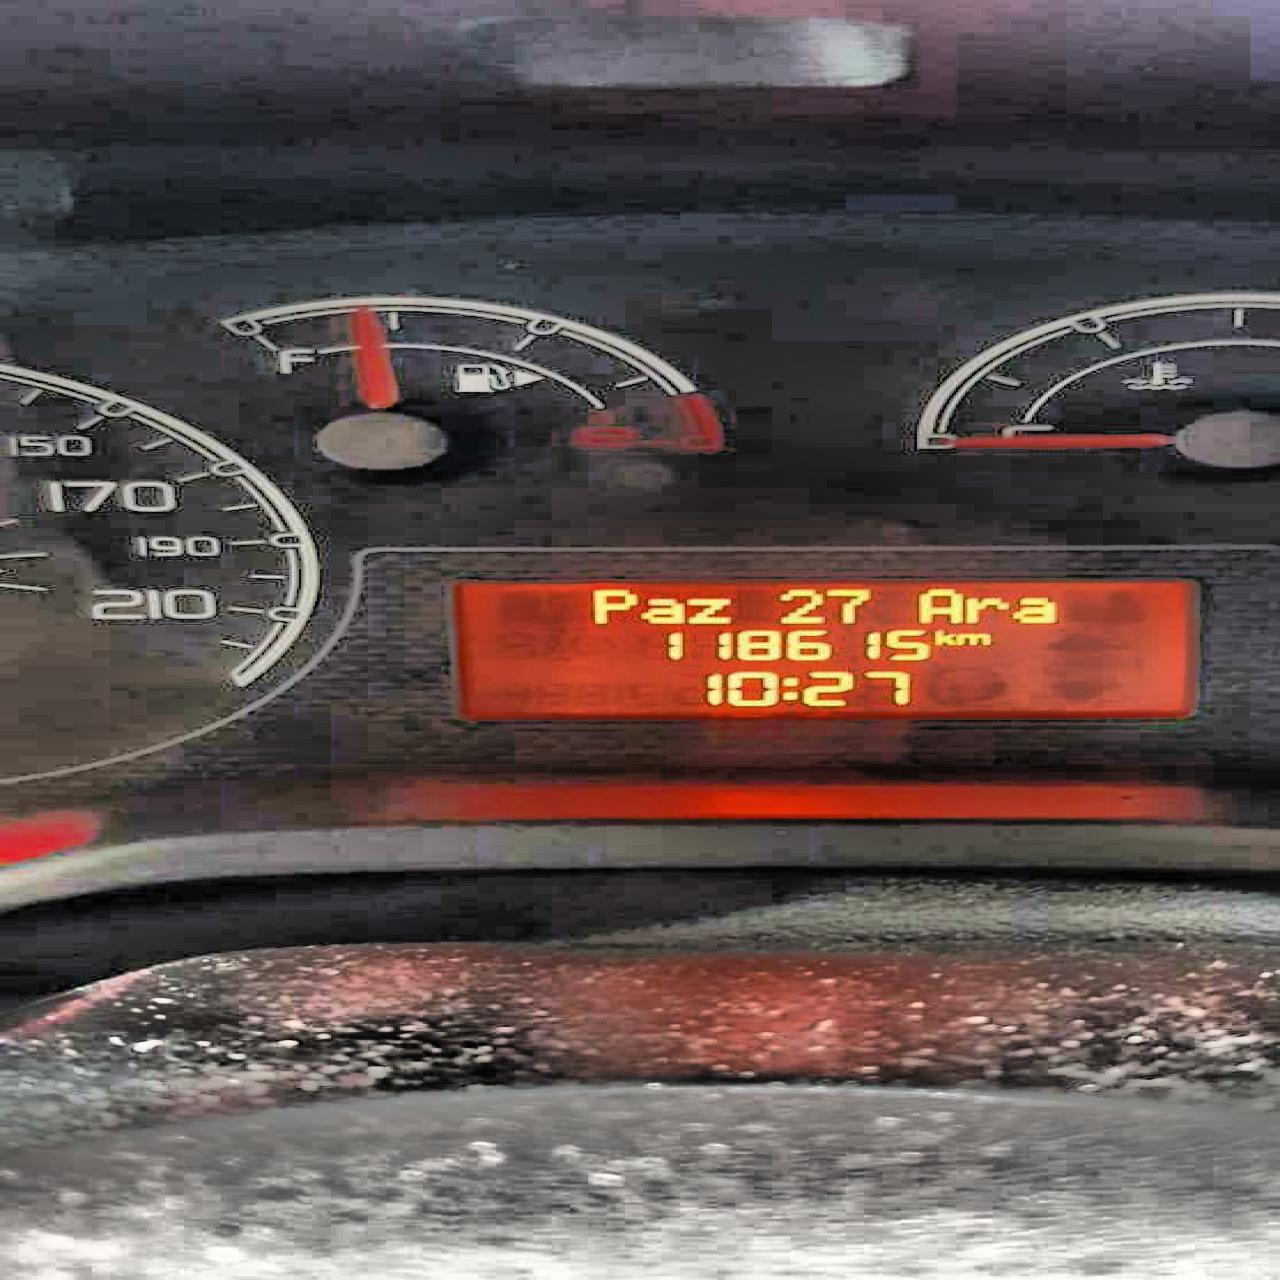0: (726, 669, 779, 708)
1: (655, 627, 689, 662), (694, 670, 726, 707), (862, 628, 885, 663), (713, 627, 733, 663)
2: (775, 585, 830, 625), (802, 667, 853, 706)
5: (885, 626, 928, 661)
6: (785, 627, 835, 662)
7: (823, 585, 878, 625), (862, 667, 914, 704)
8: (734, 627, 784, 663)
X: (914, 586, 965, 624), (591, 587, 632, 626), (1013, 594, 1062, 624), (685, 595, 735, 624), (965, 594, 1009, 624), (641, 597, 685, 624), (778, 674, 797, 704), (953, 632, 990, 645), (931, 628, 956, 645)
odometer: (464, 578, 1194, 721)
